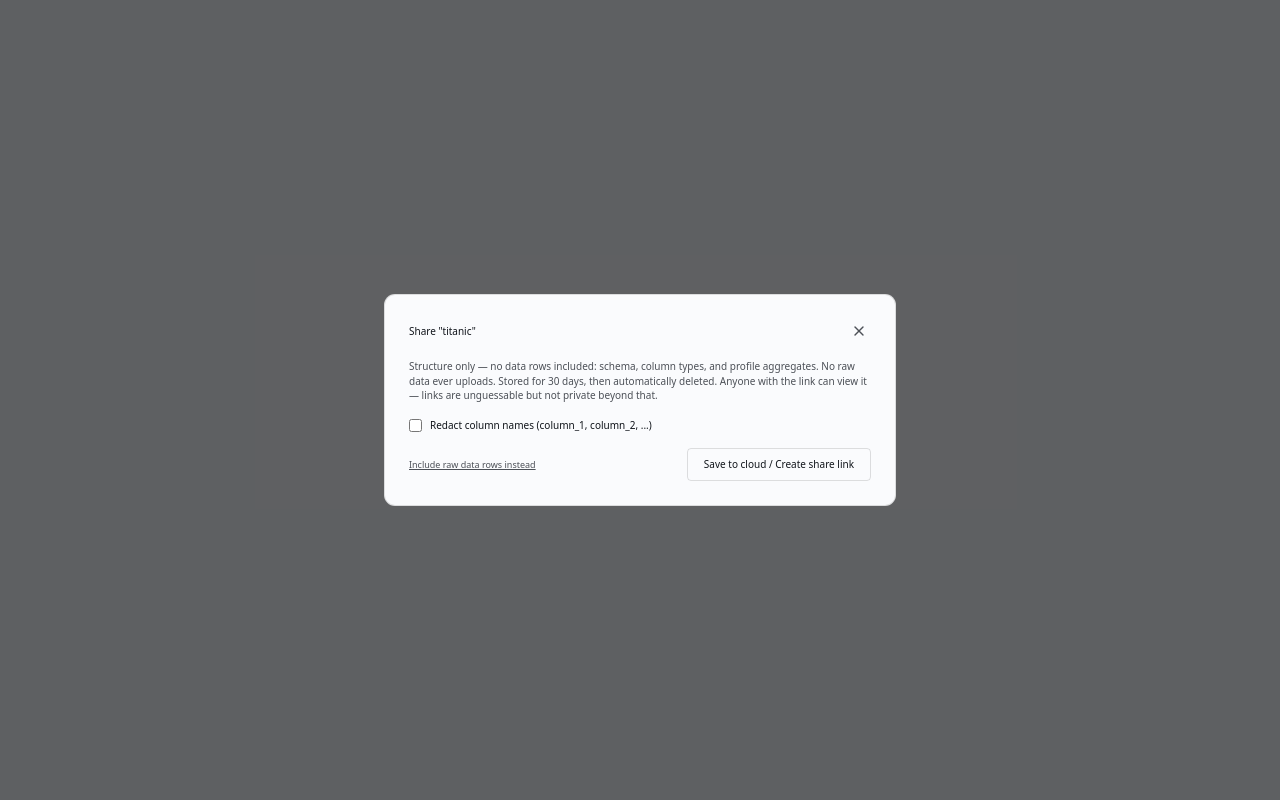
Scenario: ShareDialog › shows the share link after a successful save
Step 1. Click the button "Save to cloud / Create share link" → (779, 465), box [687, 448, 871, 481]
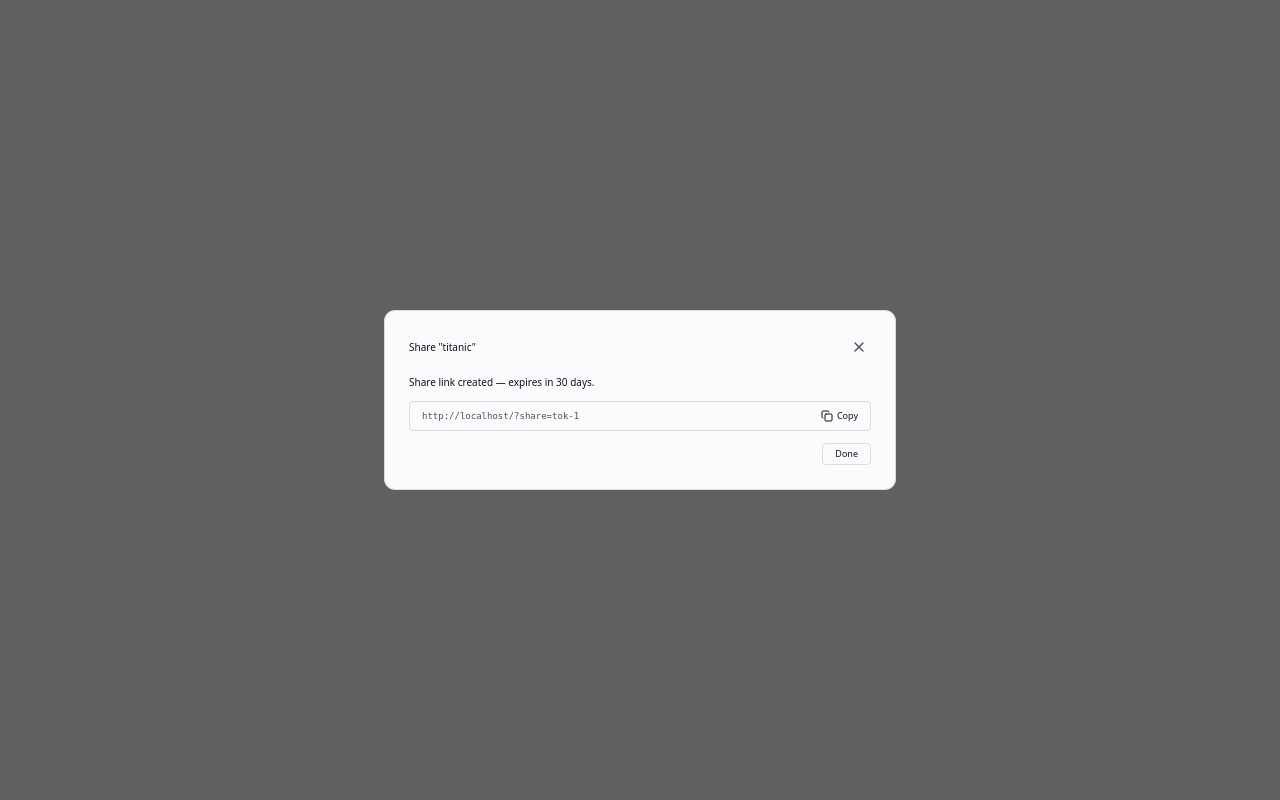
Expected: the text "Share link created — expires in 30 days." is shown, [409, 375, 594, 389]
Expected: the text "?share=tok-1" is shown, [422, 411, 579, 421]
